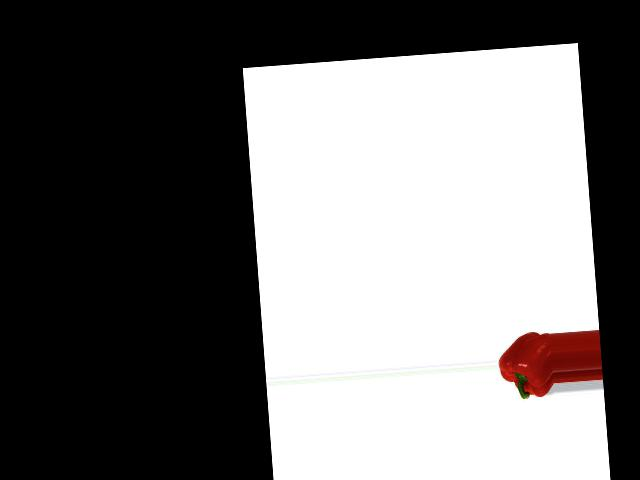bell_pepper: (495, 323, 555, 409)
